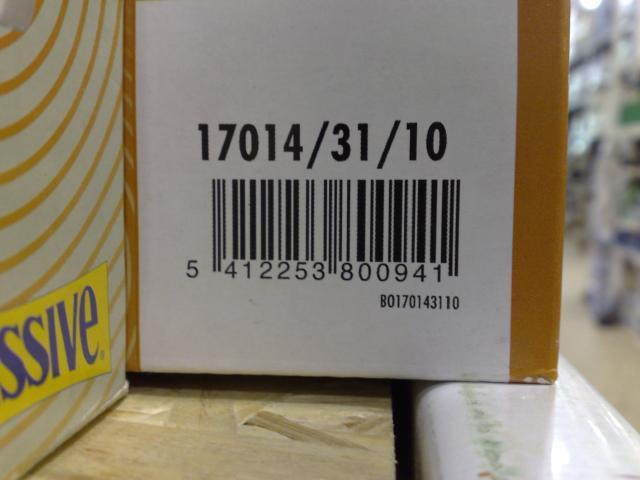Barcode: (176, 168, 477, 293)
